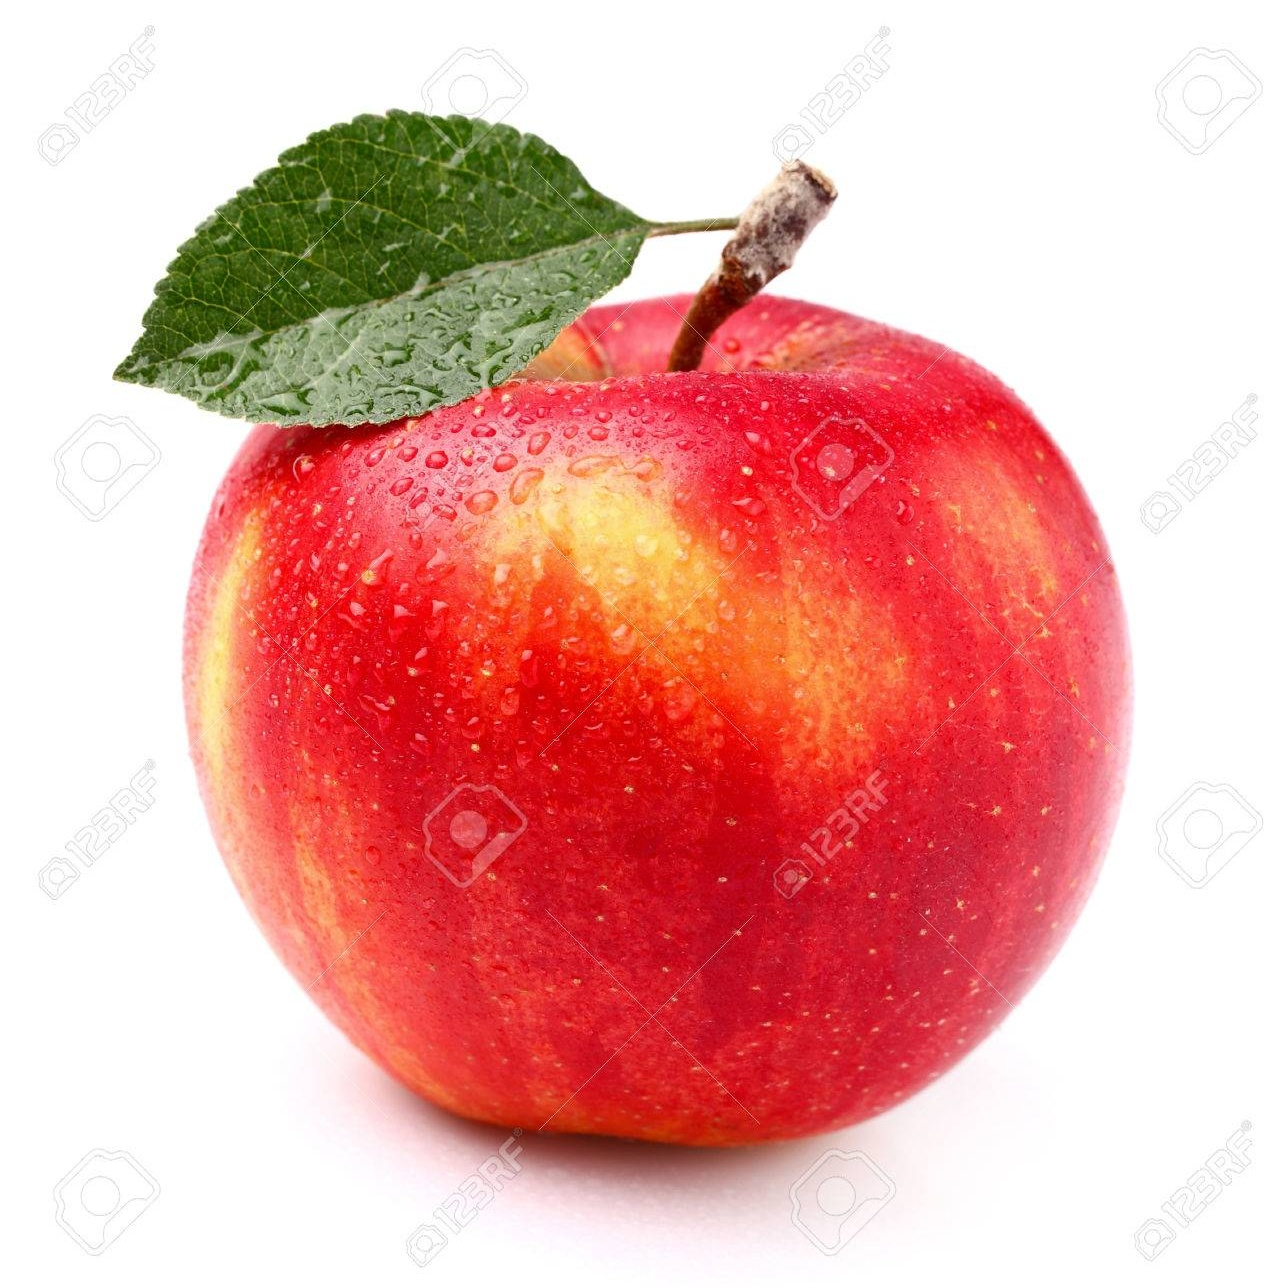apple: (109, 123, 1130, 1156)
